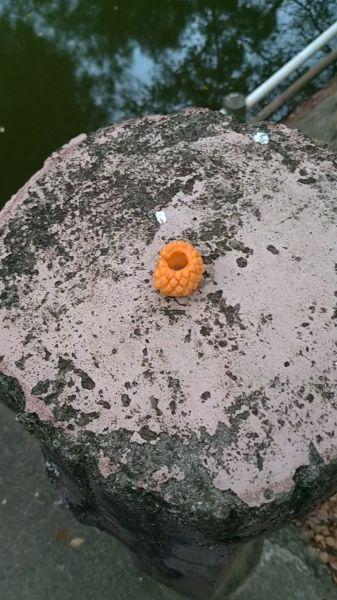eggs: (148, 234, 208, 302)
